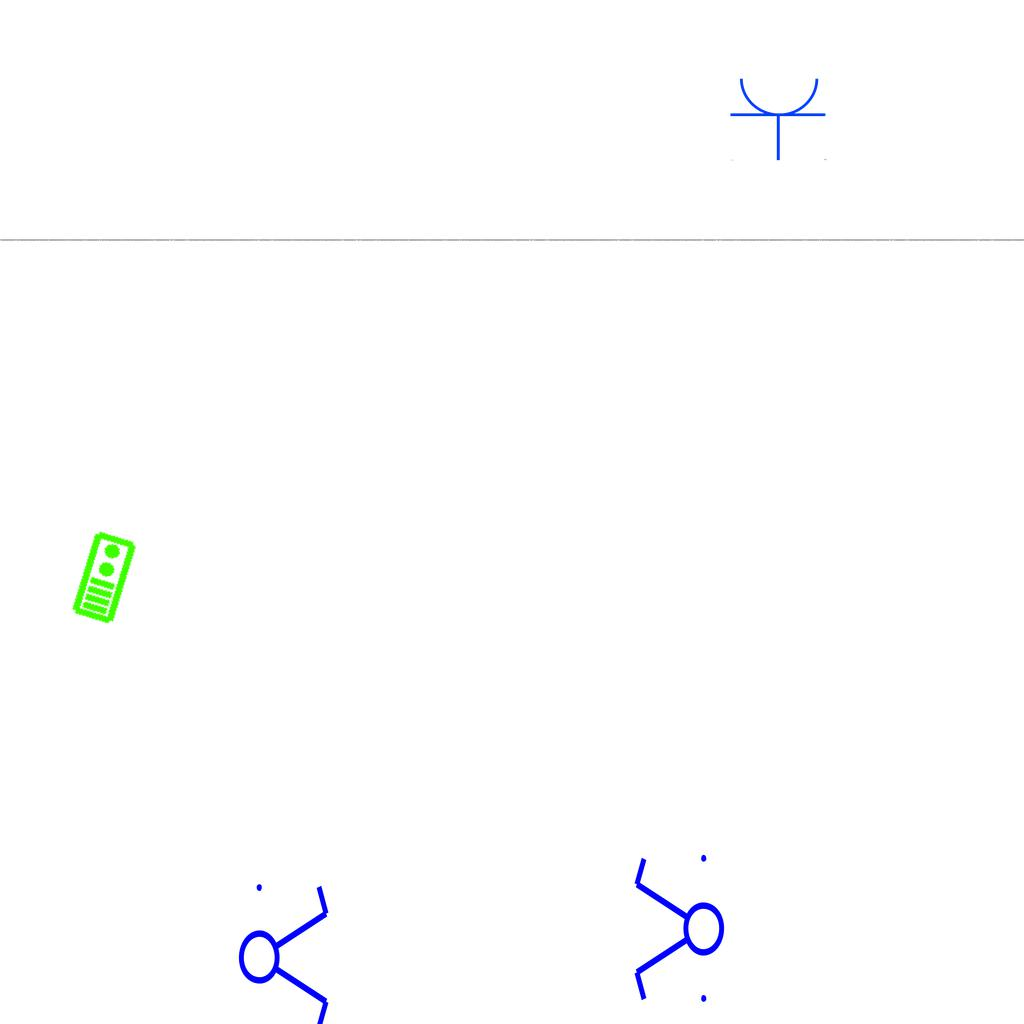Gegensprechanlage_mit_Video: (68, 528, 139, 626)
Schukosteckdose_einfach: (729, 74, 829, 161)
Serienschalter: (630, 846, 726, 1014), (237, 872, 333, 1024)
